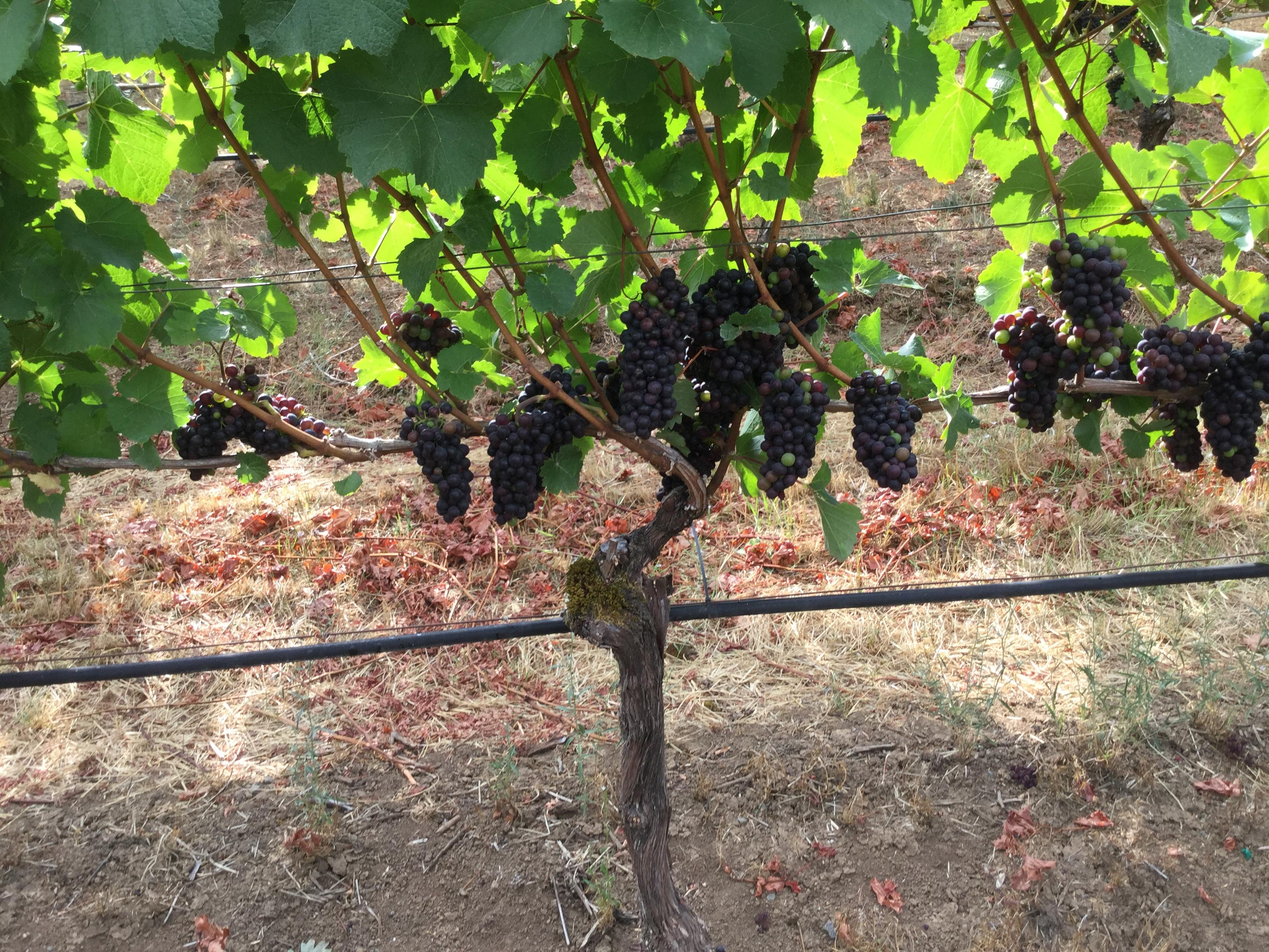leaf: (319, 27, 501, 200), (891, 44, 989, 182), (83, 69, 176, 203), (234, 69, 346, 175), (598, 0, 729, 78), (22, 252, 122, 353), (69, 0, 220, 60), (243, 0, 404, 56), (1136, 0, 1229, 94), (55, 188, 161, 268), (719, 0, 804, 98), (856, 26, 939, 117), (562, 209, 638, 302), (577, 19, 656, 107), (501, 96, 582, 181), (459, 0, 568, 63), (813, 58, 869, 175), (105, 365, 187, 443), (799, 0, 912, 55), (809, 462, 861, 560), (603, 89, 667, 162), (237, 285, 297, 357), (0, 0, 51, 84), (57, 402, 120, 458), (975, 249, 1023, 318), (450, 186, 496, 255), (855, 249, 922, 296), (1114, 36, 1158, 107), (10, 402, 58, 465), (397, 234, 443, 298), (542, 436, 593, 493), (815, 236, 862, 295), (938, 387, 980, 452), (353, 337, 406, 387), (1208, 270, 1268, 314), (1058, 151, 1103, 209), (525, 266, 577, 314), (701, 61, 740, 119), (718, 304, 780, 340), (23, 474, 69, 522), (850, 308, 884, 363), (747, 162, 790, 200), (830, 340, 868, 377), (1073, 410, 1103, 454), (1187, 290, 1222, 324), (128, 439, 161, 471), (235, 451, 269, 482), (673, 376, 697, 416), (1120, 428, 1151, 458), (332, 470, 363, 496), (15, 0, 28, 4), (693, 149, 699, 153), (158, 0, 163, 2), (675, 192, 682, 193), (1120, 105, 1122, 107), (1041, 169, 1042, 171), (764, 0, 764, 1)
